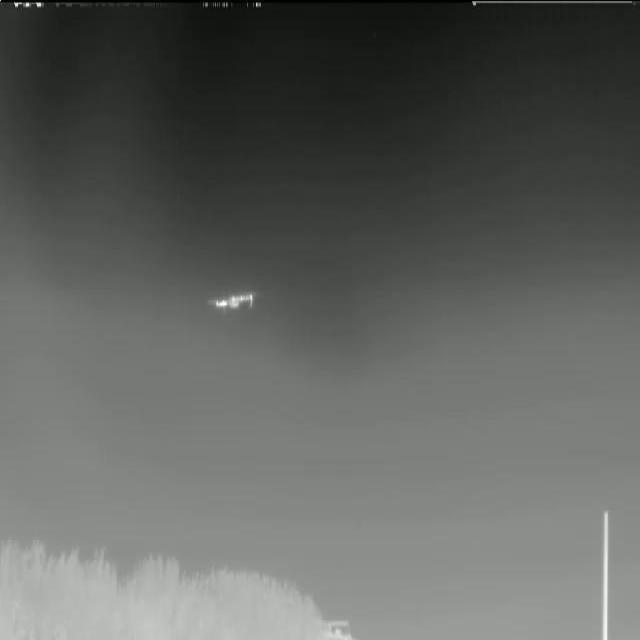DRONE: (206, 283, 263, 320)
